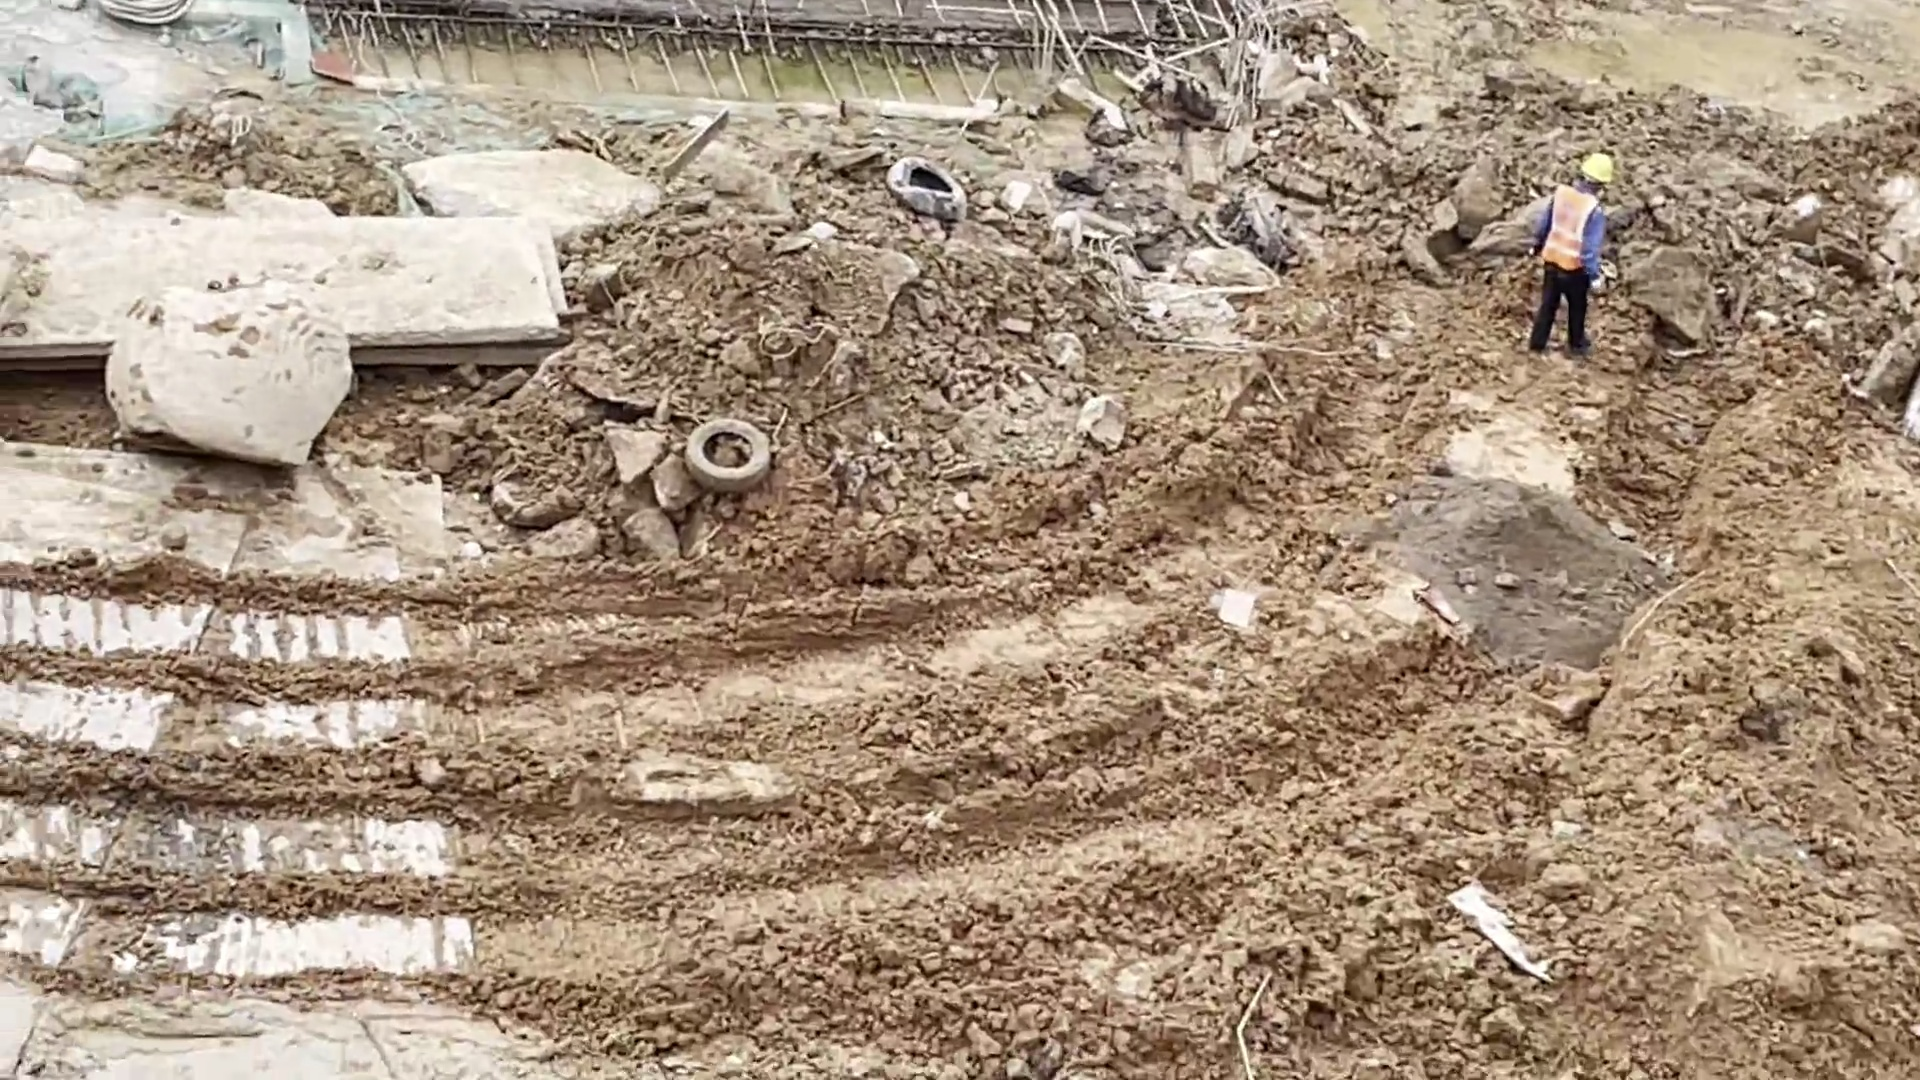helmet: (1579, 150, 1613, 186)
person: (1530, 150, 1610, 358)
vest: (1542, 186, 1587, 269)
